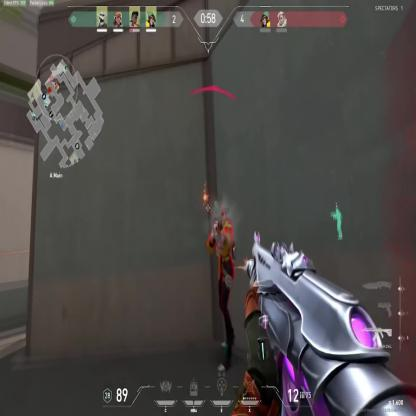enemy: (206, 202, 236, 375)
enemy_head: (213, 203, 225, 224)
